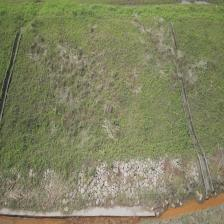rock_toe: (61, 159, 164, 201)
slope_drain: (167, 23, 216, 200), (0, 31, 23, 123)
